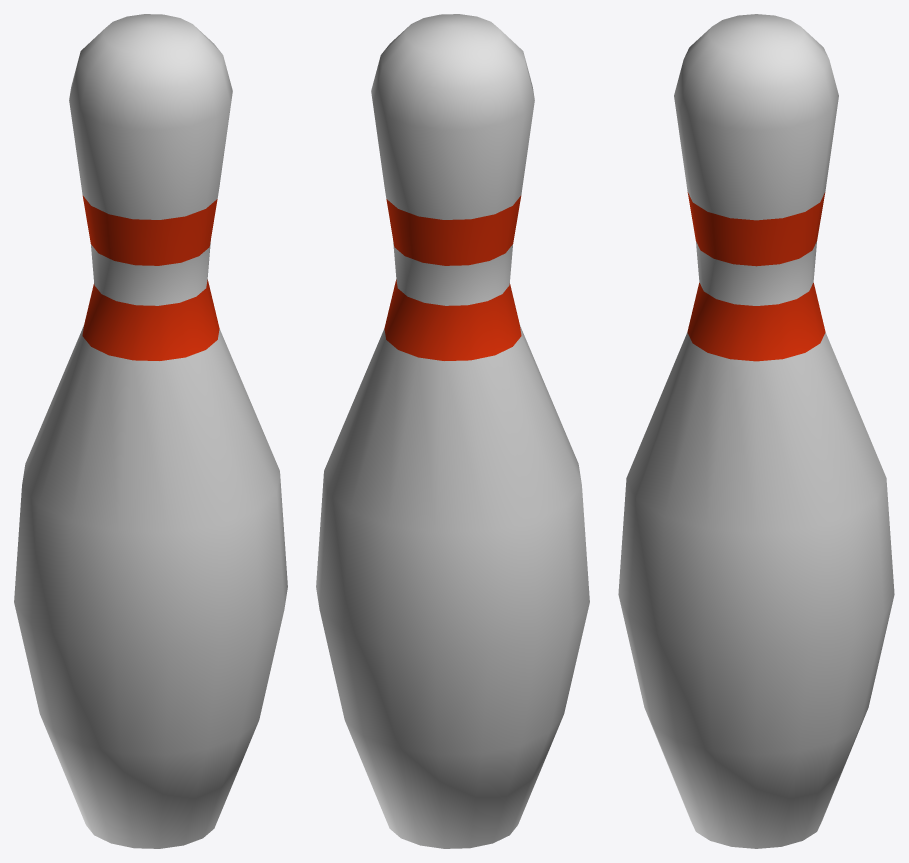
The model's file is ten-pin.glb.
The picture shows the model from 3 angles, left to right: view 1: azimuth 30°, elevation 25°; view 2: azimuth 150°, elevation 25°; view 3: azimuth 270°, elevation 25°; orthographic projection.
Visible parts, largest first — view 1: Ten-pin; view 2: Ten-pin; view 3: Ten-pin.
Part boxes in pixels (x1,y1,x2,y2): Ten-pin: [14, 14, 287, 848]; Ten-pin: [316, 14, 589, 848]; Ten-pin: [618, 14, 894, 848].
Bounding box in the file's own units: 0.12 × 0.3811 × 0.12.
